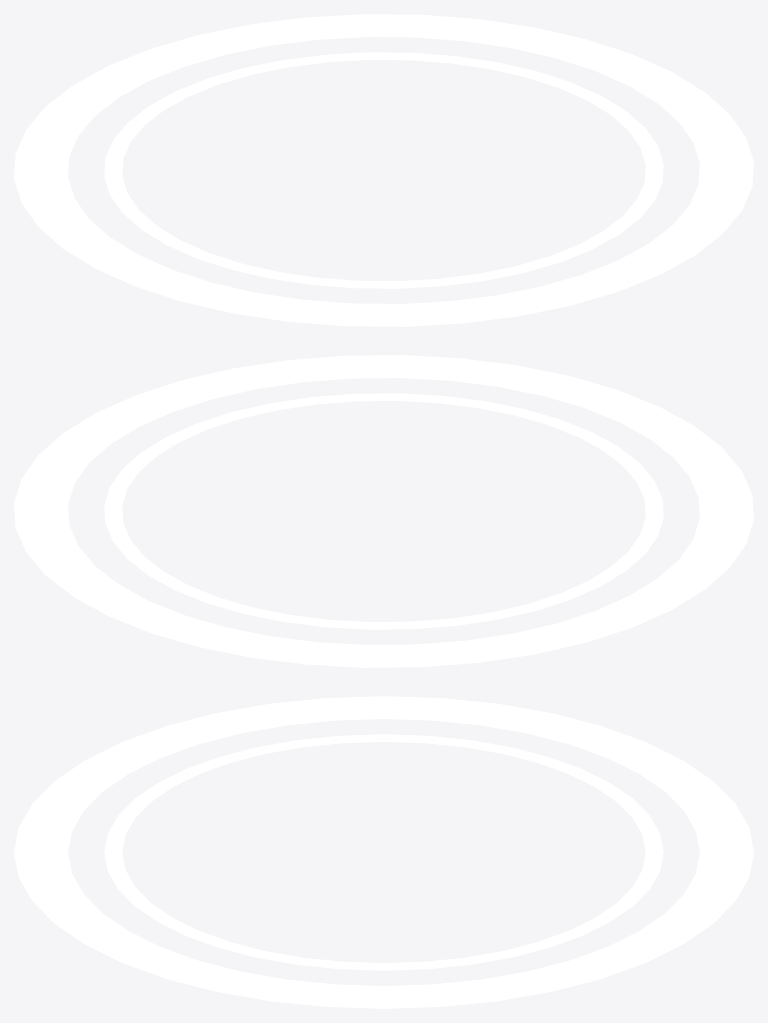
The model's file is mm_sel.glb.
3 views of the same model, one above another, from view 1: azimuth 30°, elevation 25°; view 2: azimuth 150°, elevation 25°; view 3: azimuth 270°, elevation 25° (orthographic).
Parts seen in each view (by area): view 1: selglow; view 2: selglow; view 3: selglow.
Boxes of the visible parts, x1,y1,x2,y2 form: selglow: (14, 14, 753, 326); selglow: (14, 355, 753, 667); selglow: (14, 696, 753, 1008).
Size of the model in its own units: 1.64 by 0 by 1.64.
